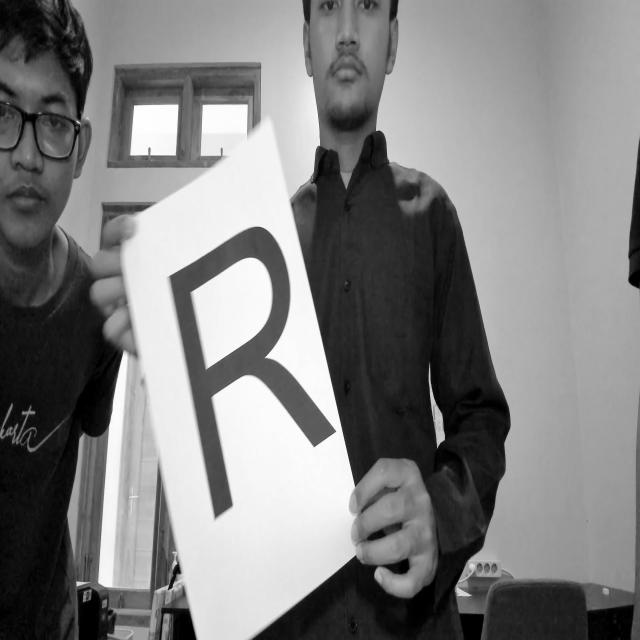r: (153, 205, 345, 548)
